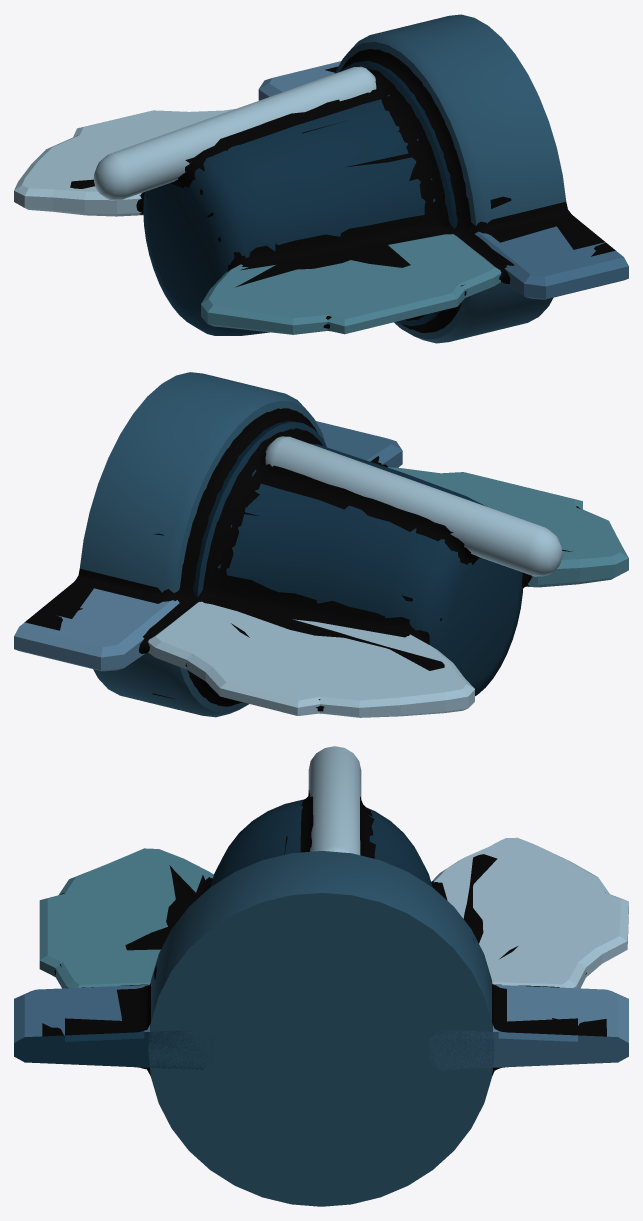
Rendered from newsh-caret-203.glb.
The picture shows the model from 3 angles, top to bottom: view 1: azimuth 30°, elevation 25°; view 2: azimuth 150°, elevation 25°; view 3: azimuth 270°, elevation 25°; orthographic projection. The views are drawn at different scales.
Parts seen in each view (by area): view 1: newsh-caret-203, newsh-caret-203_outline; view 2: newsh-caret-203, newsh-caret-203_outline; view 3: newsh-caret-203, newsh-caret-203_outline.
Boxes of the visible parts, x1=… form: newsh-caret-203: x1=14, y1=14, x2=628, y2=343; newsh-caret-203_outline: x1=70, y1=49, x2=615, y2=332; newsh-caret-203: x1=14, y1=372, x2=628, y2=717; newsh-caret-203_outline: x1=25, y1=408, x2=580, y2=713; newsh-caret-203: x1=14, y1=746, x2=628, y2=1206; newsh-caret-203_outline: x1=42, y1=789, x2=606, y2=1076.
Bounding box in the file's own units: 1.5 × 1.08 × 1.91.
